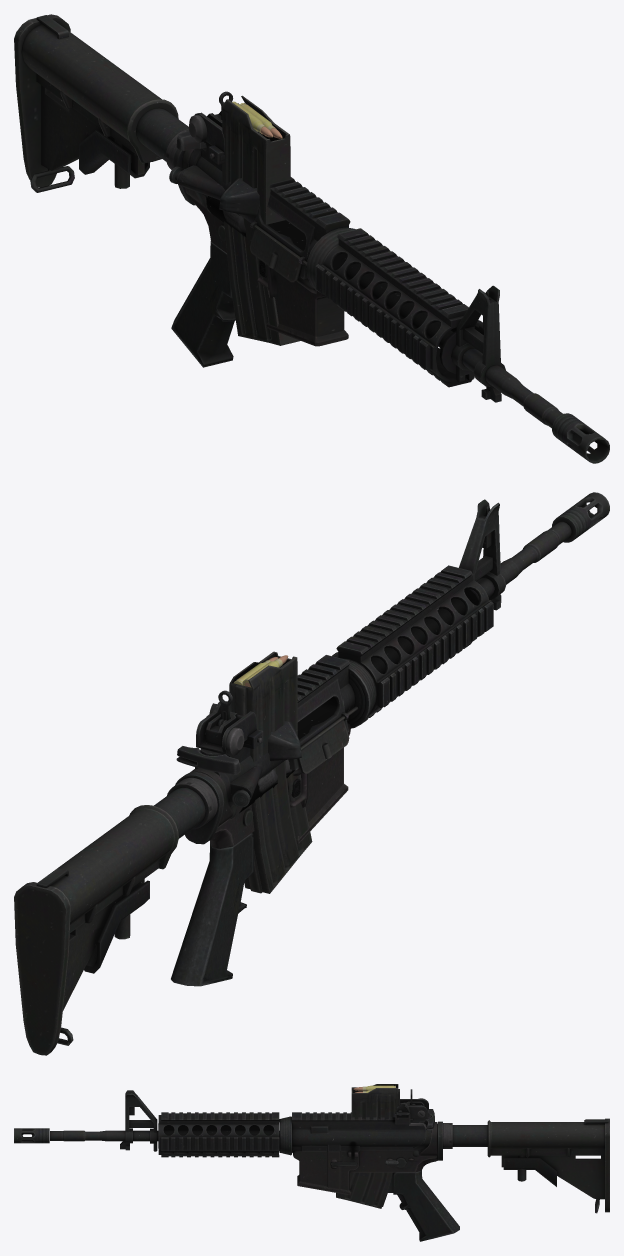
The model's file is fps_m4.glb.
3 views of the same model, one above another, from view 1: azimuth 30°, elevation 25°; view 2: azimuth 150°, elevation 25°; view 3: azimuth 270°, elevation 25° (orthographic). The views are drawn at different scales.
Parts seen in each view (by area): view 1: FPS_M4_Main, FPS_M4_Mag1, FPS_M4_Mag2, FPS_M4_Bolt; view 2: FPS_M4_Main, FPS_M4_Mag2, FPS_M4_Mag1; view 3: FPS_M4_Main, FPS_M4_Mag1, FPS_M4_Mag2.
Part boxes in pixels (x1,y1,x2,y2): FPS_M4_Main: (14, 14, 609, 463); FPS_M4_Mag1: (222, 96, 300, 345); FPS_M4_Mag2: (222, 95, 289, 343); FPS_M4_Bolt: (207, 196, 246, 236); FPS_M4_Main: (14, 492, 609, 1055); FPS_M4_Mag2: (229, 651, 304, 893); FPS_M4_Mag1: (231, 653, 312, 893); FPS_M4_Main: (14, 1089, 609, 1241); FPS_M4_Mag1: (336, 1084, 399, 1208); FPS_M4_Mag2: (336, 1084, 399, 1208).
Bounding box in the file's own units: 0.189 × 0.6766 × 2.42.
Materials: 2 (2 with a texture image).
